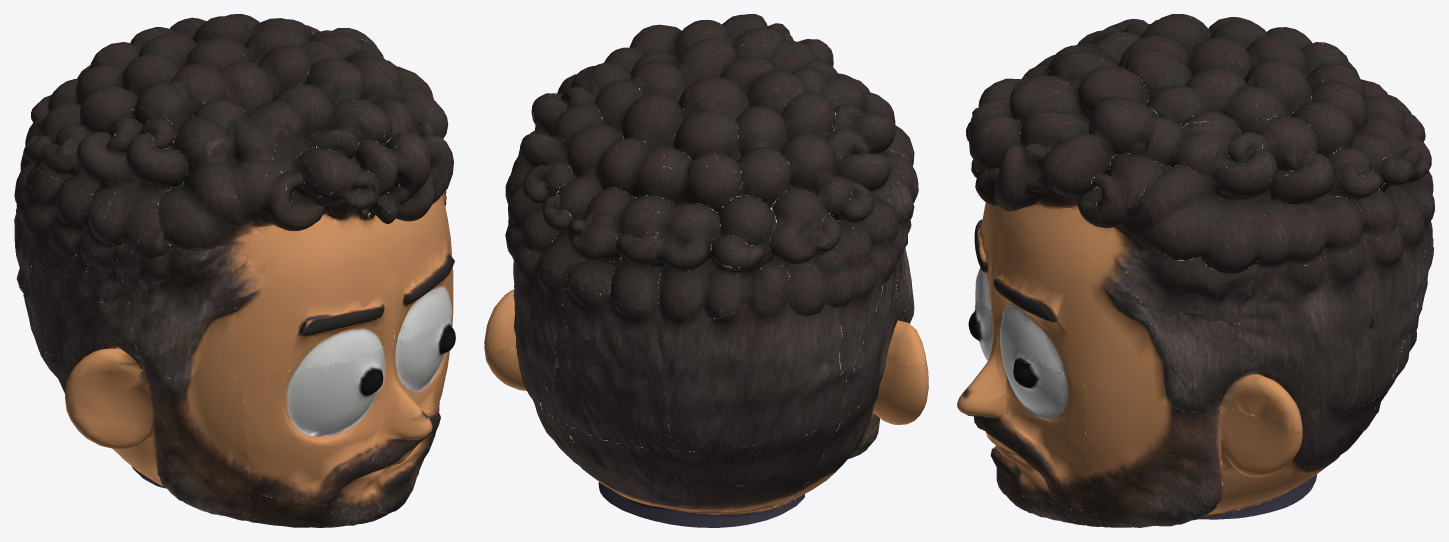
The model's file is juan-head.glb.
The picture shows the model from 3 angles, left to right: view 1: azimuth 30°, elevation 25°; view 2: azimuth 150°, elevation 25°; view 3: azimuth 270°, elevation 25°; orthographic projection. The views are drawn at different scales.
Visible parts, largest first — view 1: Face; view 2: Face; view 3: Face.
Part boxes in pixels (left/top/right/bottom): Face: left=14, top=14, right=455, bottom=527; Face: left=484, top=14, right=928, bottom=527; Face: left=957, top=14, right=1434, bottom=527.
Size of what is drawn, in the model's own units: 1.02 by 1.09 by 1.09.
Materials: 2 (1 with a texture image).
